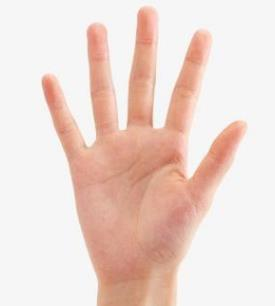down: (34, 2, 253, 275)
